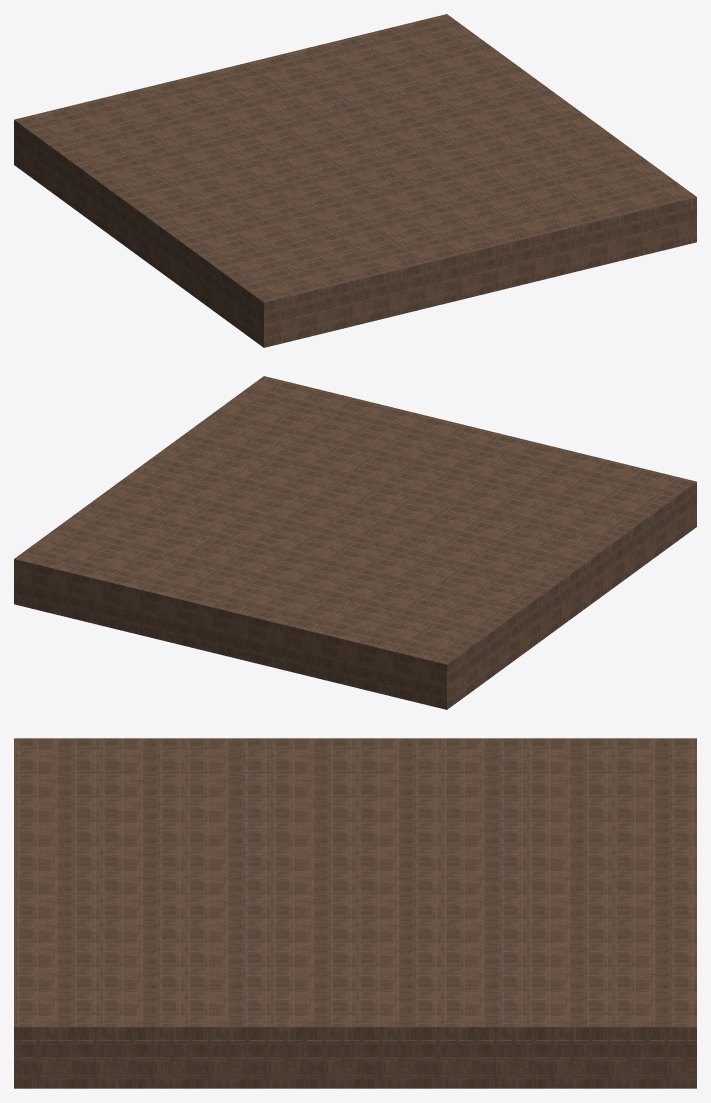
The model's file is 10x10WallUV.fbx.
3 views of the same model, one above another, from view 1: azimuth 30°, elevation 25°; view 2: azimuth 150°, elevation 25°; view 3: azimuth 270°, elevation 25° (orthographic). The views are drawn at different scales.
Visible parts, largest first — view 1: pCube1; view 2: pCube1; view 3: pCube1.
Boxes of the visible parts, x1=… form: pCube1: x1=14, y1=14, x2=696, y2=347; pCube1: x1=14, y1=376, x2=696, y2=709; pCube1: x1=14, y1=738, x2=696, y2=1088.
Bounding box in the file's own units: 1000 × 100 × 1000.
Materials: 1 (1 with a texture image).
